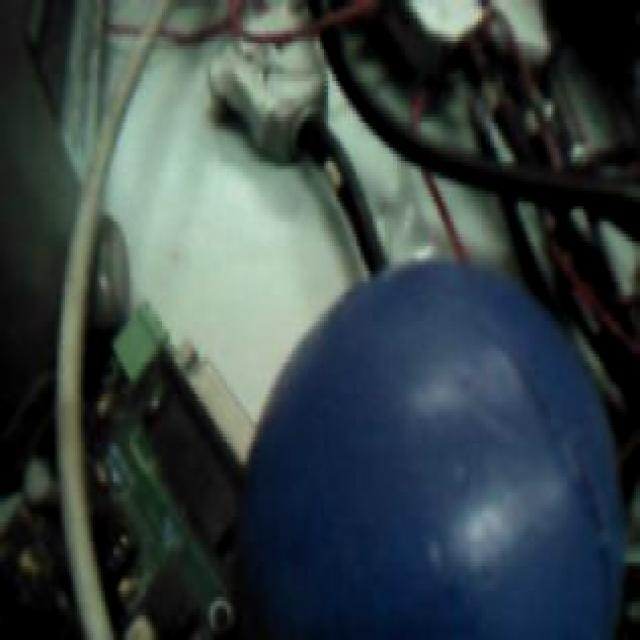BallPurple: (242, 261, 621, 640)
